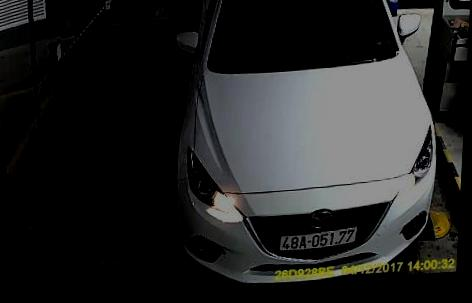License_Plate: (279, 222, 357, 249)
